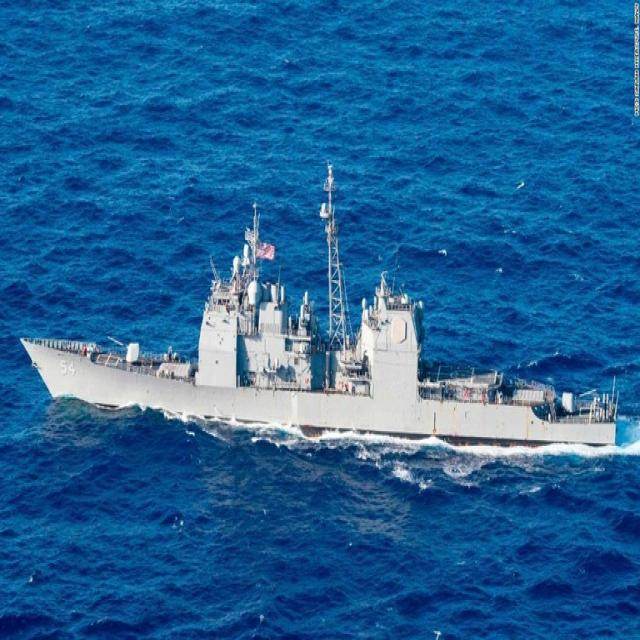navalvessels: (17, 180, 618, 470)
